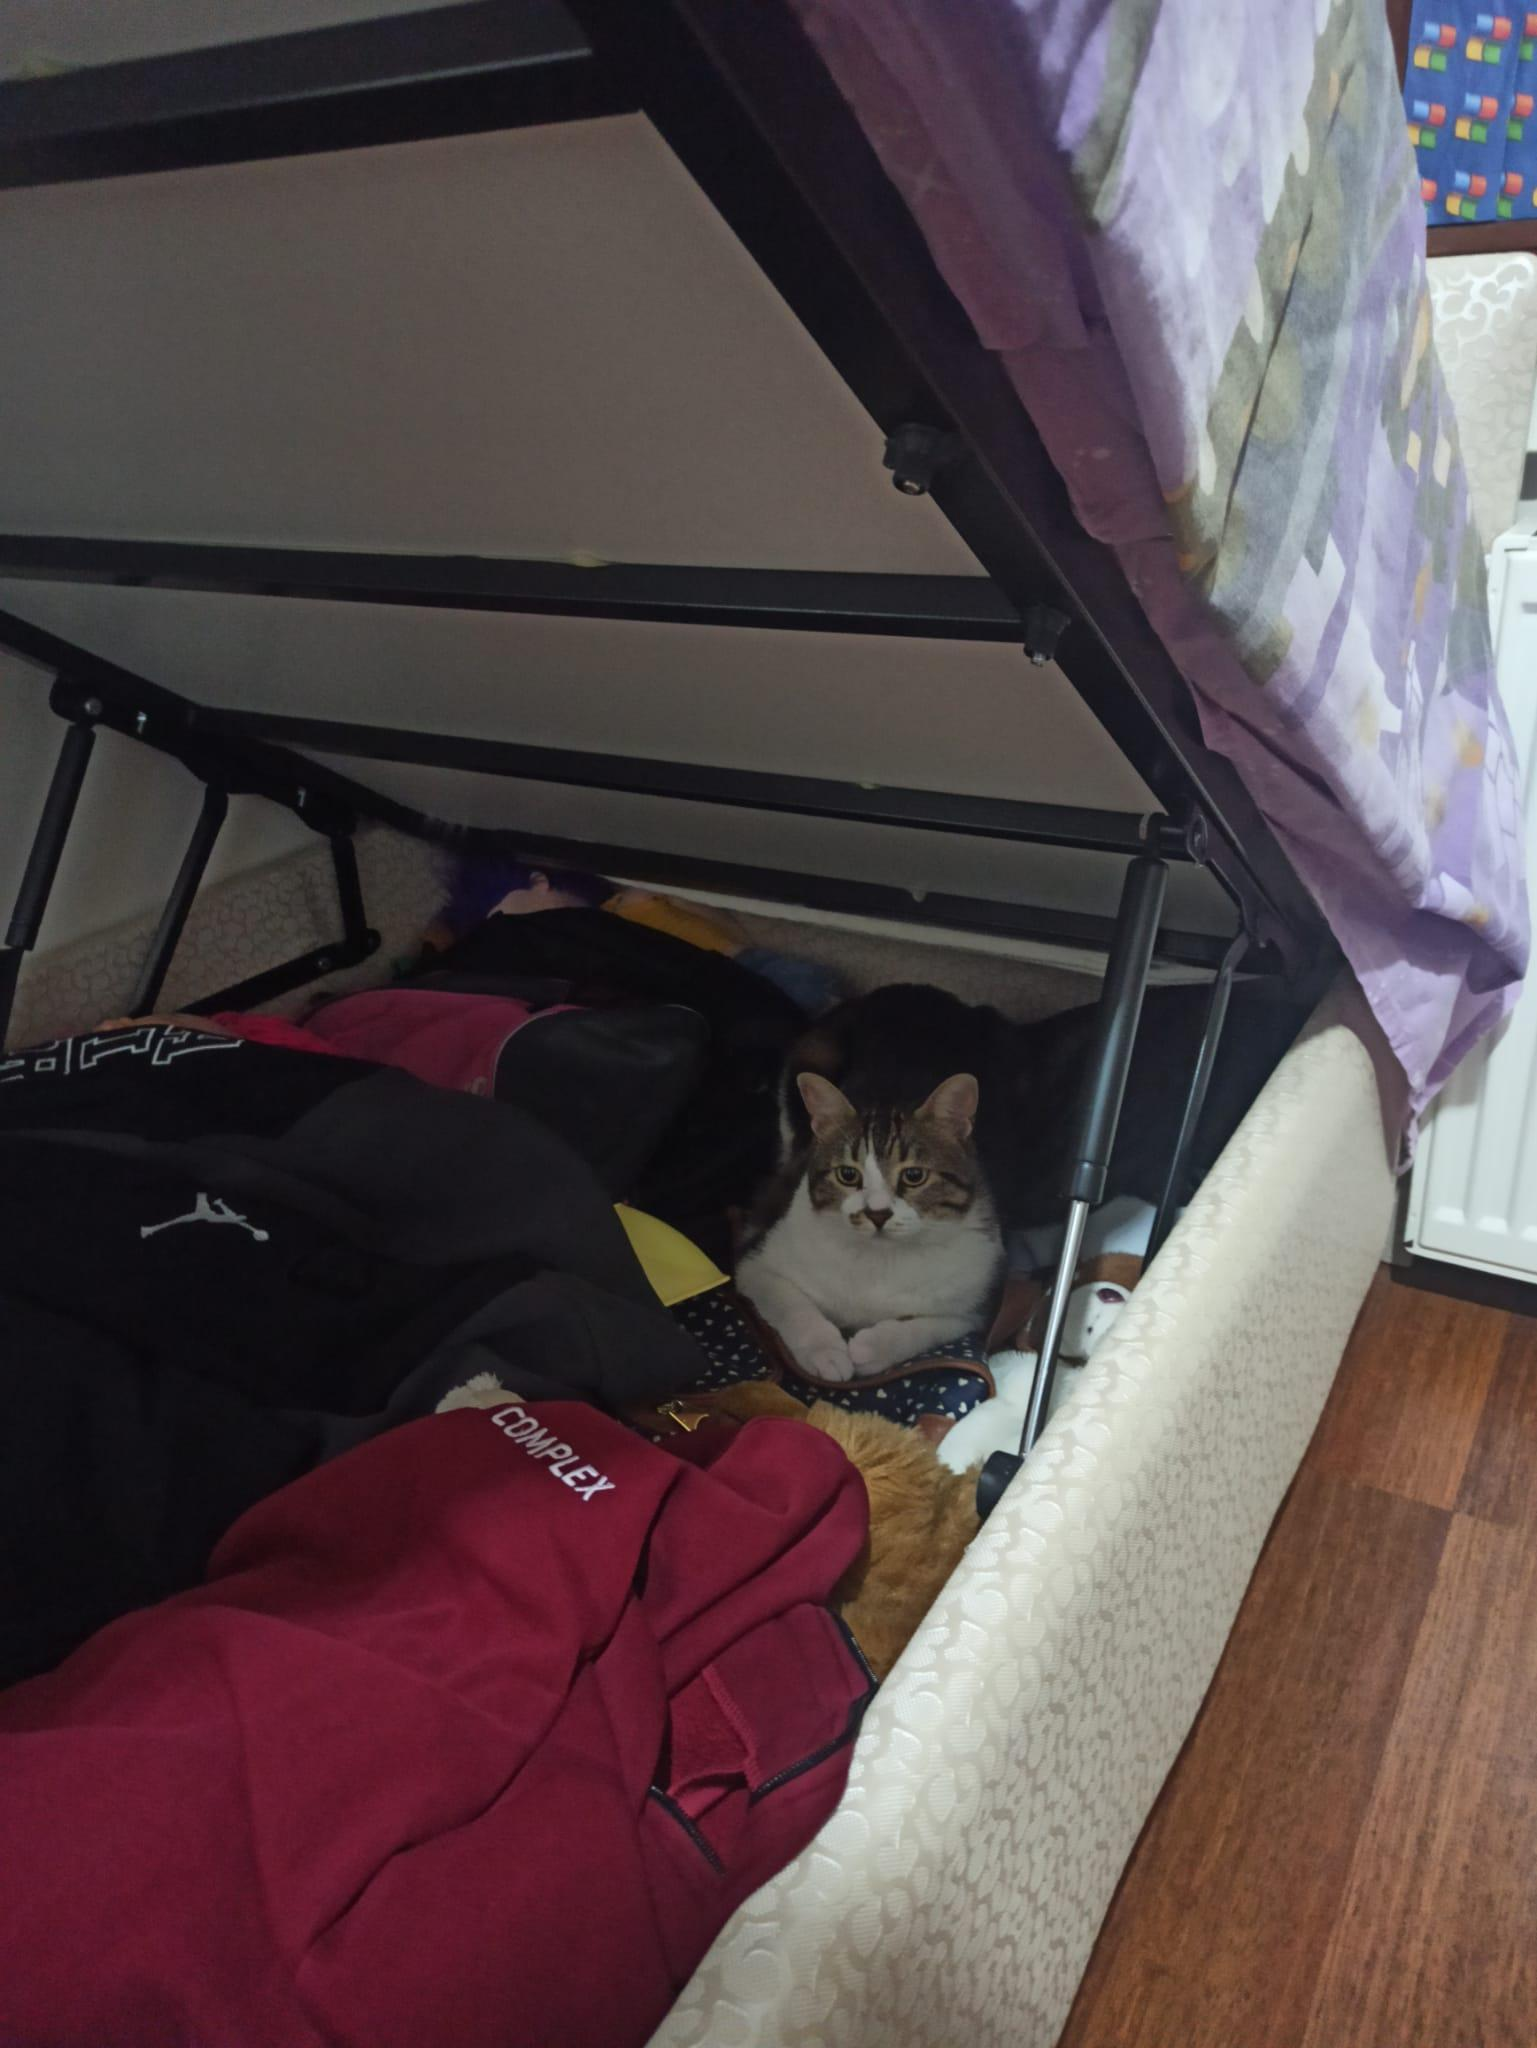kedo: (781, 1067, 995, 1378)
